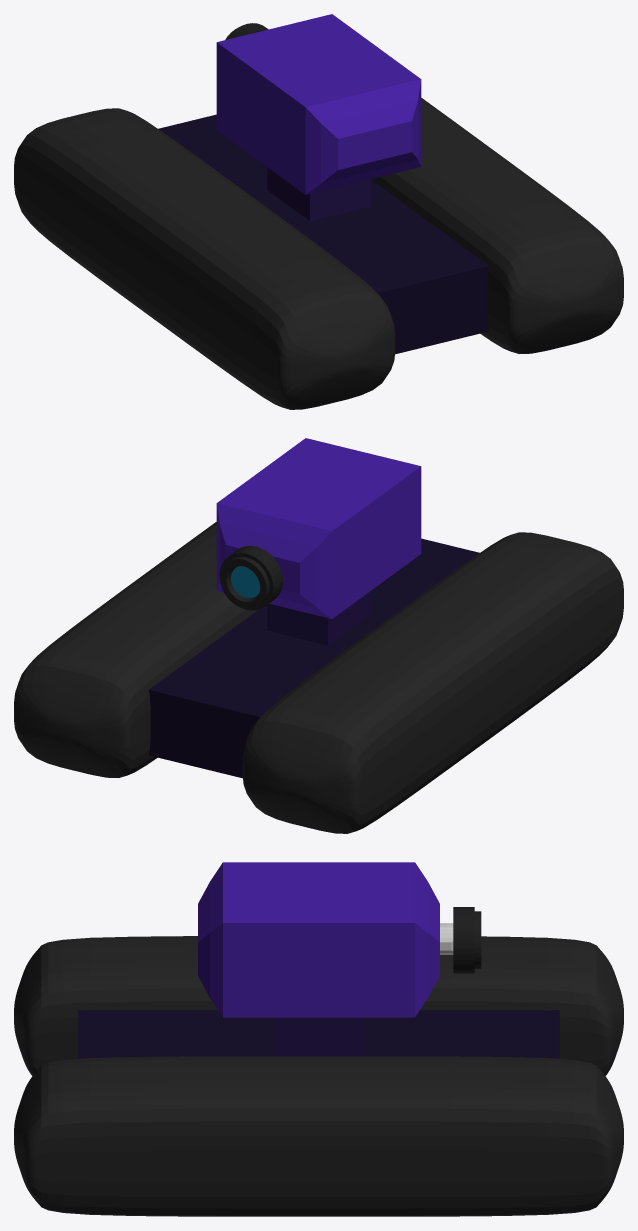
File: rob.obj
3 views of the same model, one above another, from view 1: azimuth 30°, elevation 25°; view 2: azimuth 150°, elevation 25°; view 3: azimuth 270°, elevation 25° (orthographic). The views are drawn at different scales.
Parts seen in each view (by area): view 1: Cube.002, Cube.003, Cube; view 2: Cube.002, Cube.003, Cube, Cylinder.001, Cylinder; view 3: Cube.002, Cube.003, Cube, Cylinder.
Part boxes in pixels (x1,y1,x2,y2): Cube.002: (14, 98, 623, 409); Cube.003: (216, 14, 421, 194); Cube: (158, 114, 489, 354); Cube.002: (14, 522, 623, 833); Cube.003: (216, 438, 421, 618); Cube: (148, 538, 479, 778); Cylinder.001: (220, 556, 269, 608); Cylinder: (219, 545, 282, 610); Cube.002: (14, 936, 623, 1216); Cube.003: (198, 862, 439, 1017); Cube: (78, 1010, 559, 1058); Cylinder: (453, 907, 474, 973).
Size of the model in its own units: 1.78 by 1.13 by 2.54.
